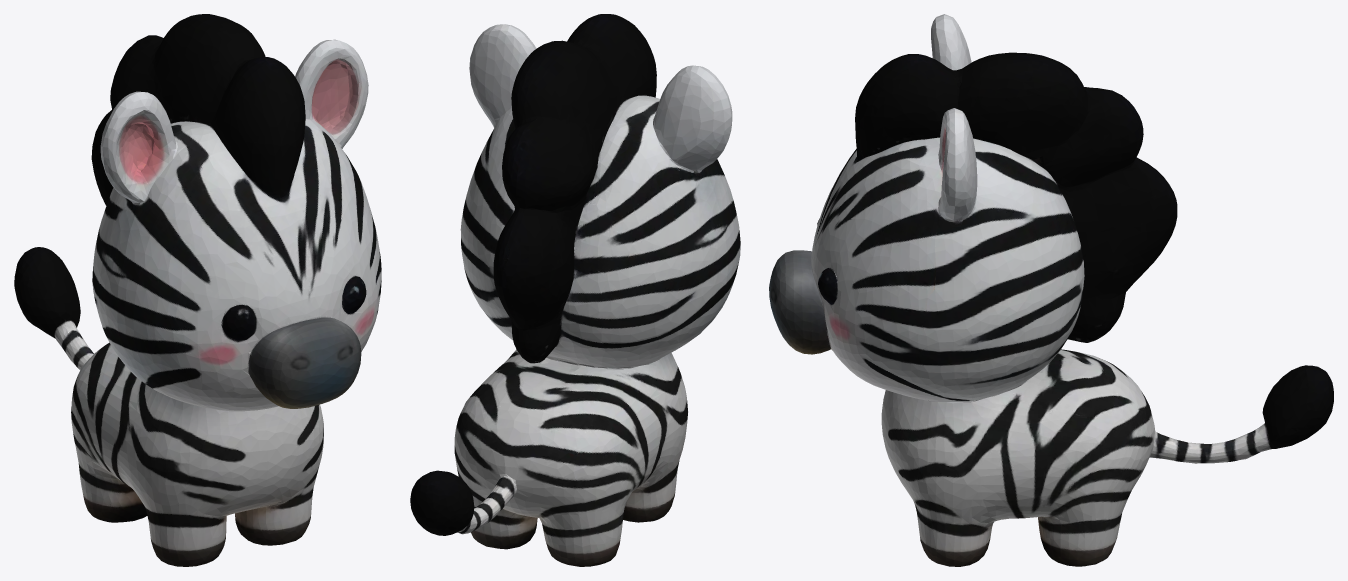
Rendered from zebra.glb.
3 renders of one model, left to right at view 1: azimuth 30°, elevation 25°; view 2: azimuth 150°, elevation 25°; view 3: azimuth 270°, elevation 25°, orthographic. The views are drawn at different scales.
Visible parts, largest first — view 1: geometry_0; view 2: geometry_0; view 3: geometry_0.
Part boxes in pixels (left/top/right/bottom): geometry_0: left=14, top=14, right=381, bottom=566; geometry_0: left=410, top=14, right=740, bottom=566; geometry_0: left=769, top=14, right=1333, bottom=566.
Size of the model in its own units: 0.5416 by 0.9562 by 0.998.
1 material, 1 textured.
